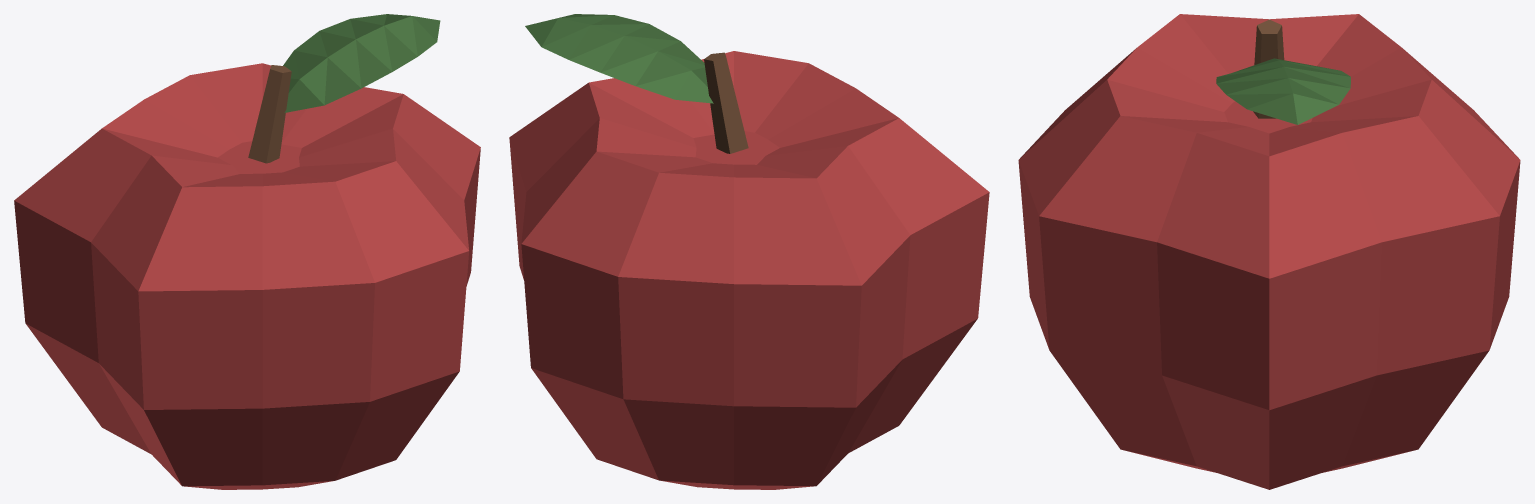
Rendered from apple.glb.
3 views of the same model, side by side, from view 1: azimuth 30°, elevation 25°; view 2: azimuth 150°, elevation 25°; view 3: azimuth 270°, elevation 25° (orthographic). The views are drawn at different scales.
Visible parts, largest first — view 1: item; view 2: item; view 3: item.
Boxes of the visible parts, x1,y1,x2,y2 form: item: (14, 14, 480, 489); item: (509, 14, 989, 489); item: (1018, 14, 1520, 489).
Size of the model in its own units: 0.2761 by 0.2598 by 0.266.
